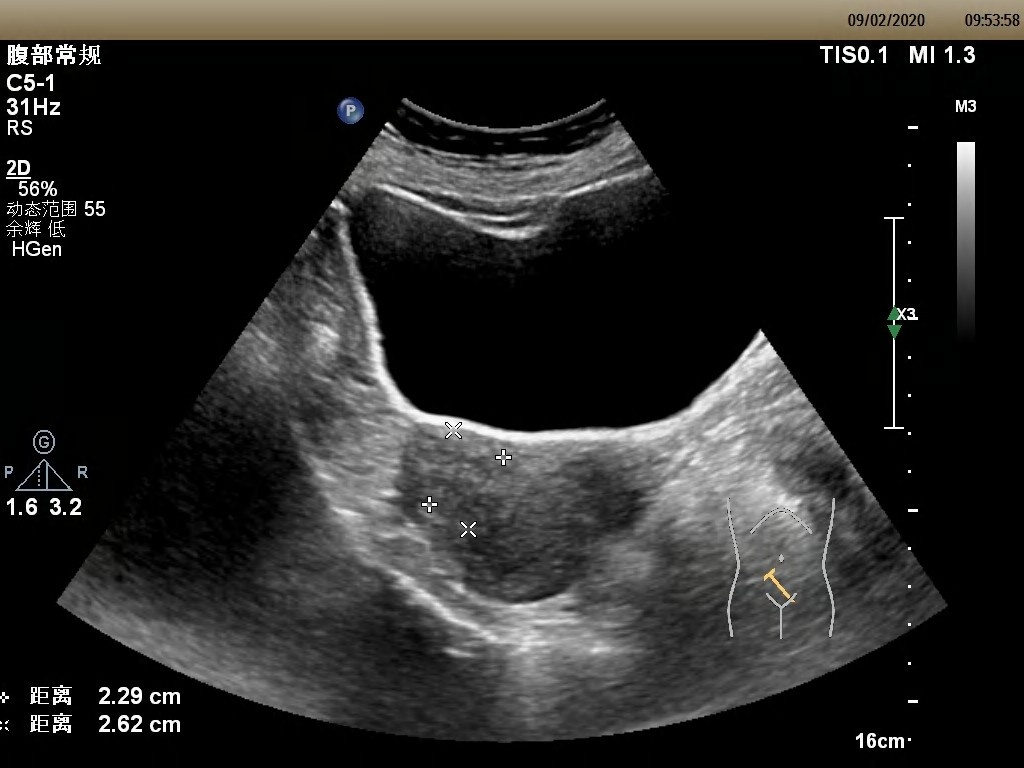肌瘤: (438, 430, 494, 526)
